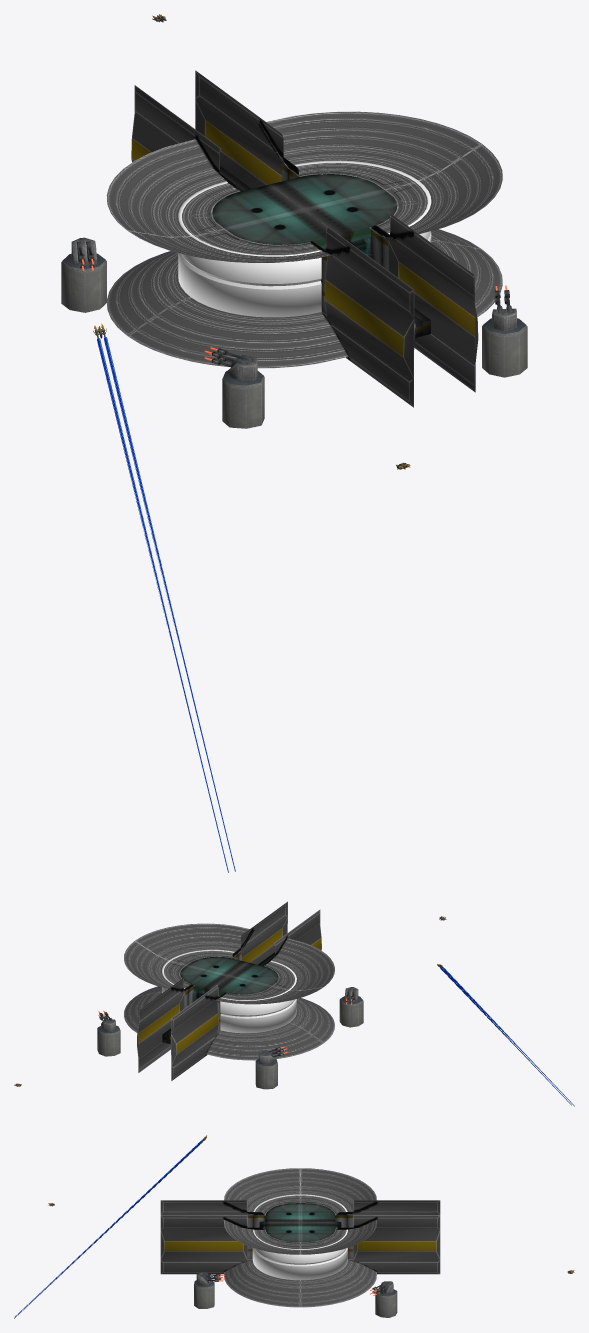
The model's file is SpaceStation_Color.glb.
3 renders of one model, top to bottom at view 1: azimuth 30°, elevation 25°; view 2: azimuth 150°, elevation 25°; view 3: azimuth 270°, elevation 25°, orthographic. The views are drawn at different scales.
Visible parts, largest first — view 1: Station-Outside_out_side_low, Station-Inside_Circle.065, window_shutter_down_Circle.025, window_shutter_up_Circle.000, Laser-Tower.003_tower.001, Laser-Tower.001_tower.001, Laser-Tower.002_tower.001, Starfighter_Laser.002_SF.002, Starfighter_Laser.001_SF.002; view 2: Station-Outside_out_side_low, Station-Inside_Circle.065, window_shutter_down_Circle.025, window_shutter_up_Circle.000, Laser-Tower.002_tower.001, Laser-Tower_tower.001, Laser-Tower.001_tower.001, Starfighter_Laser.002_SF.002, Starfighter_Laser.001_SF.002; view 3: Station-Outside_out_side_low, Station-Inside_Circle.065, window_shutter_down_Circle.025, window_shutter_up_Circle.000, Laser-Tower_tower.001, Laser-Tower.003_tower.001, Starfighter_Laser.001_SF.002, Starfighter_Laser.002_SF.002.
Boxes of the visible parts, left/top/right/bottom form: Station-Outside_out_side_low: left=106, top=70, right=502, bottom=407; Station-Inside_Circle.065: left=198, top=163, right=430, bottom=337; window_shutter_down_Circle.025: left=178, top=232, right=431, bottom=317; window_shutter_up_Circle.000: left=178, top=160, right=431, bottom=286; Laser-Tower.003_tower.001: left=482, top=318, right=527, bottom=377; Laser-Tower.001_tower.001: left=61, top=253, right=106, bottom=312; Laser-Tower.002_tower.001: left=222, top=371, right=264, bottom=428; Starfighter_Laser.002_SF.002: left=97, top=338, right=228, bottom=872; Starfighter_Laser.001_SF.002: left=104, top=337, right=235, bottom=871; Station-Outside_out_side_low: left=124, top=901, right=334, bottom=1080; Station-Inside_Circle.065: left=162, top=951, right=285, bottom=1044; window_shutter_down_Circle.025: left=162, top=988, right=296, bottom=1033; window_shutter_up_Circle.000: left=162, top=949, right=296, bottom=1016; Laser-Tower.002_tower.001: left=339, top=996, right=363, bottom=1027; Laser-Tower_tower.001: left=97, top=1025, right=120, bottom=1056; Laser-Tower.001_tower.001: left=255, top=1058, right=277, bottom=1089; Starfighter_Laser.002_SF.002: left=443, top=968, right=574, bottom=1106; Starfighter_Laser.001_SF.002: left=440, top=967, right=571, bottom=1105; Station-Outside_out_side_low: left=160, top=1168, right=440, bottom=1307; Station-Inside_Circle.065: left=247, top=1201, right=353, bottom=1259; window_shutter_down_Circle.025: left=252, top=1248, right=347, bottom=1280; window_shutter_up_Circle.000: left=253, top=1194, right=347, bottom=1264; Laser-Tower_tower.001: left=375, top=1289, right=397, bottom=1317; Laser-Tower.003_tower.001: left=194, top=1280, right=214, bottom=1308; Starfighter_Laser.001_SF.002: left=14, top=1141, right=202, bottom=1318; Starfighter_Laser.002_SF.002: left=15, top=1139, right=202, bottom=1316.
Bounding box in the file's own units: 587 × 411 × 1057.
19 materials, 8 textured.
